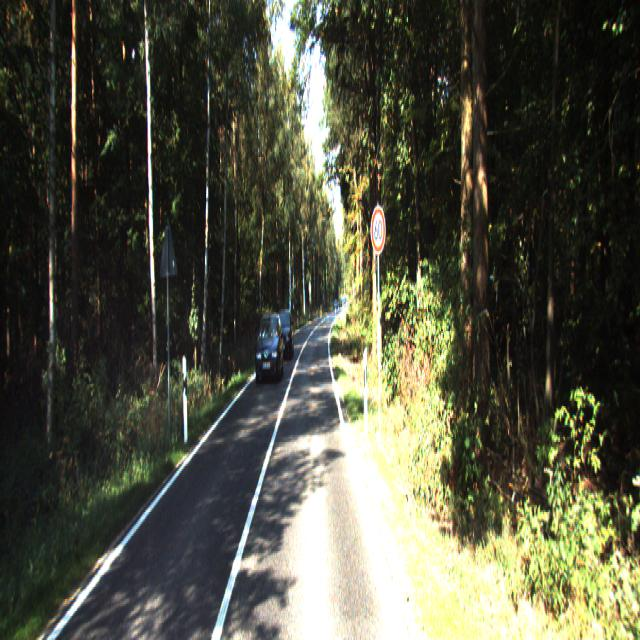Car: (255, 311, 285, 385), (274, 306, 296, 363)
